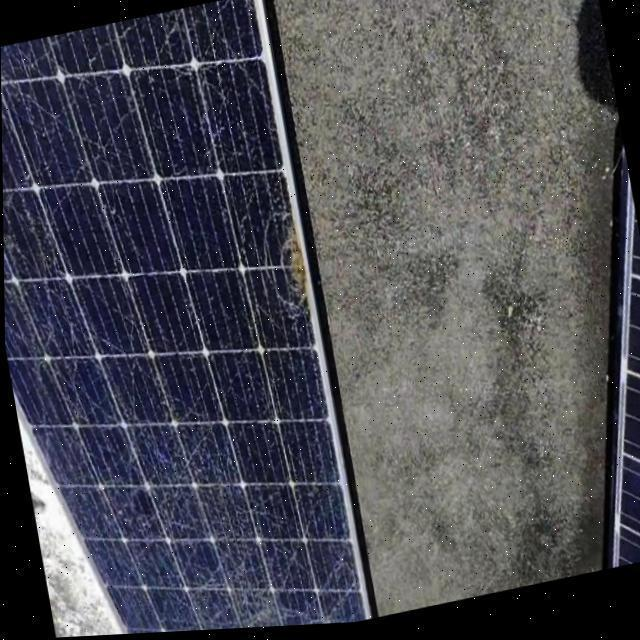Normal Solar Panel: (532, 134, 640, 578)
